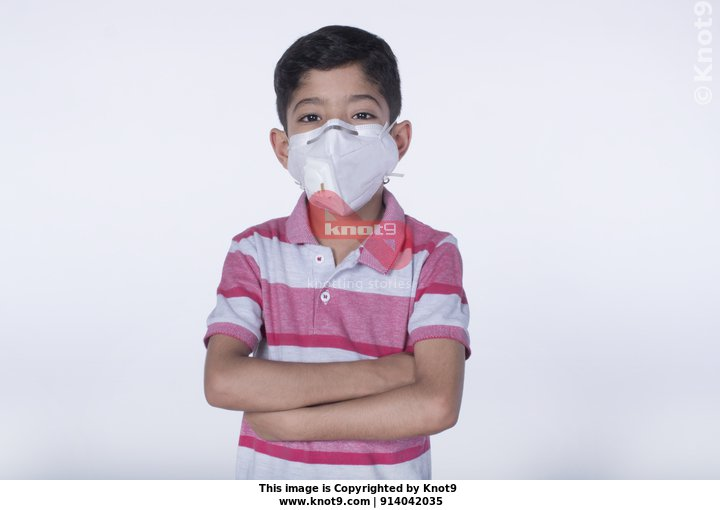mask: (265, 34, 415, 216)
